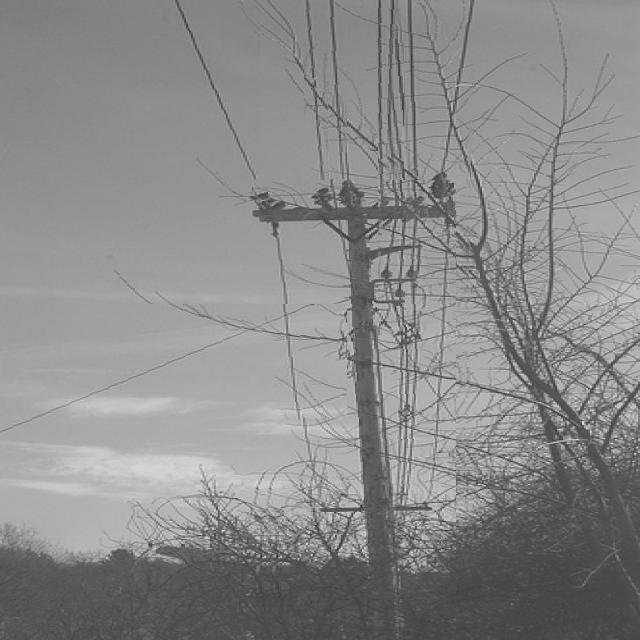pole: (254, 181, 456, 640)
wire: (2, 304, 330, 435), (409, 0, 475, 506), (172, 0, 260, 196), (271, 227, 317, 516), (396, 0, 419, 495), (304, 0, 330, 190), (328, 0, 347, 179), (378, 0, 388, 253), (392, 0, 404, 162), (378, 312, 381, 347)
